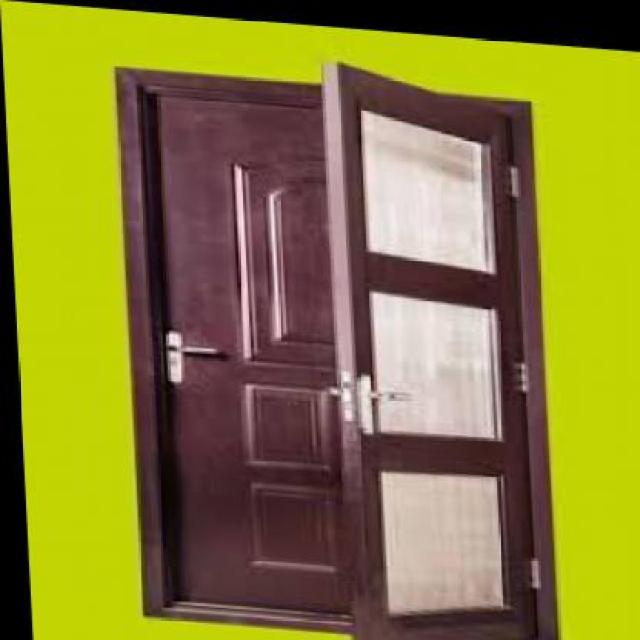door: (323, 46, 536, 640), (132, 74, 346, 640)
